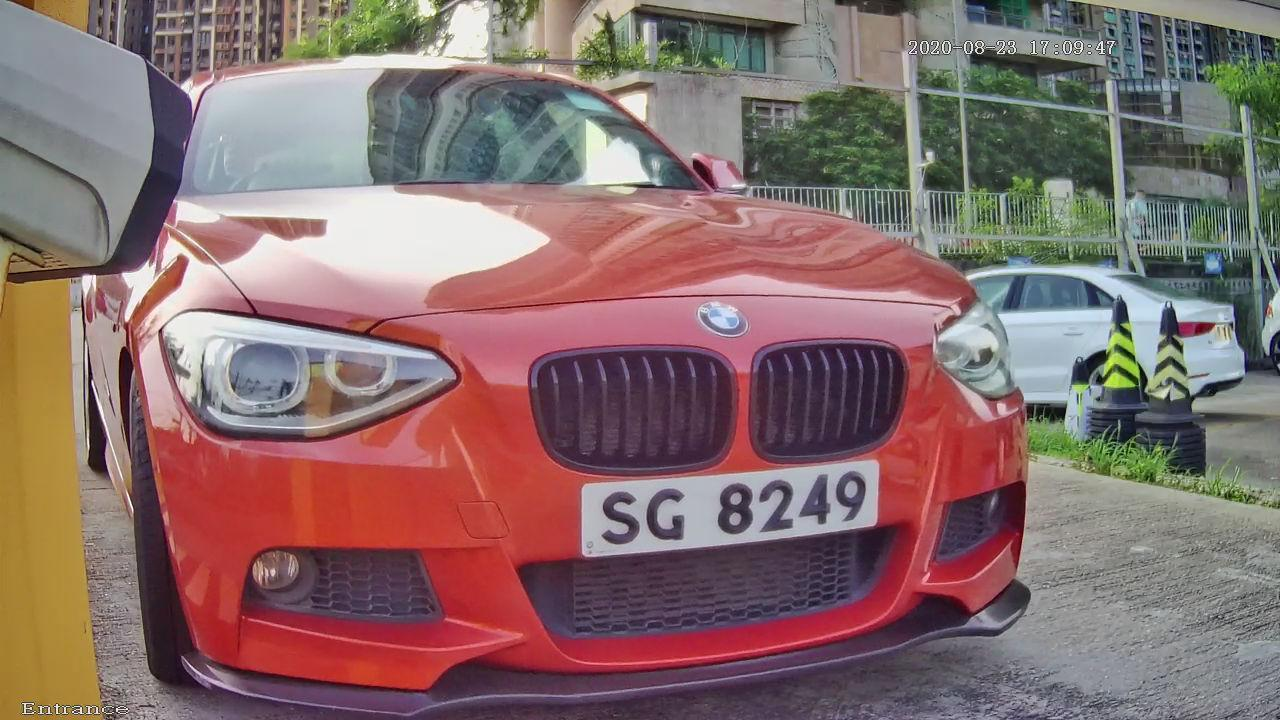License Plate: (518, 392, 927, 594)
